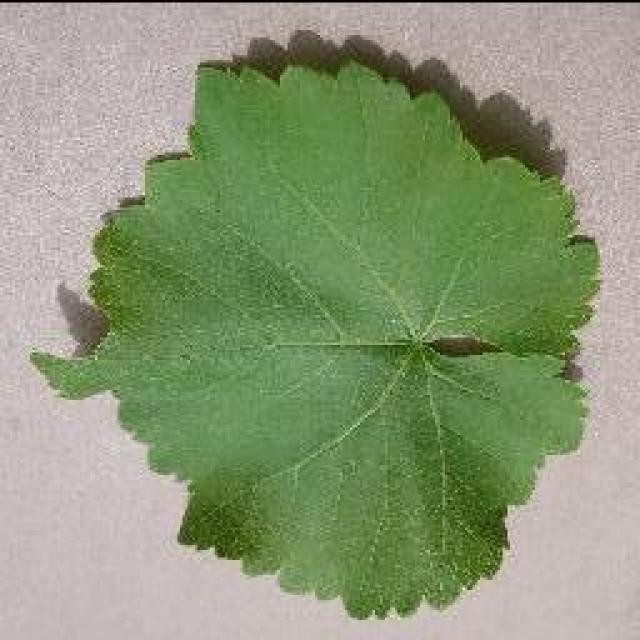Grape___healthy: (22, 47, 608, 628)
